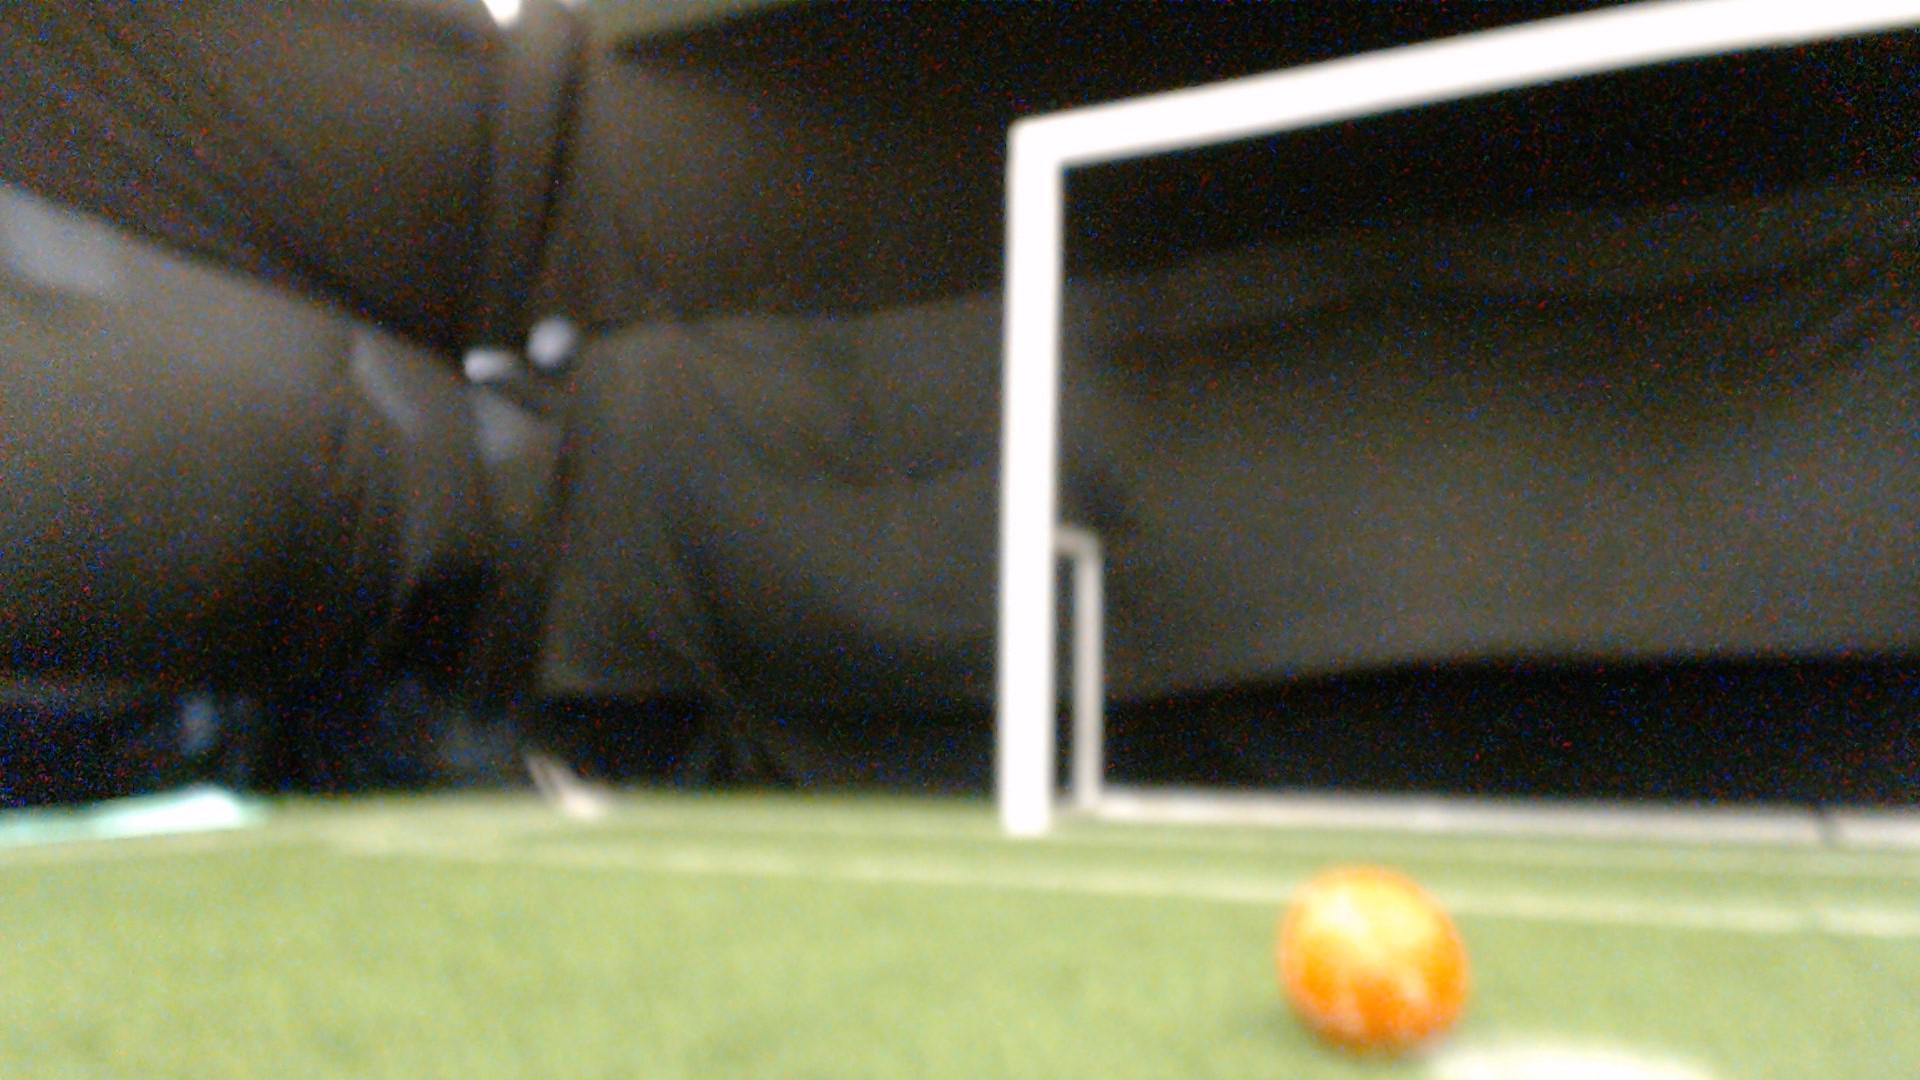bola: (1254, 848, 1508, 1072)
